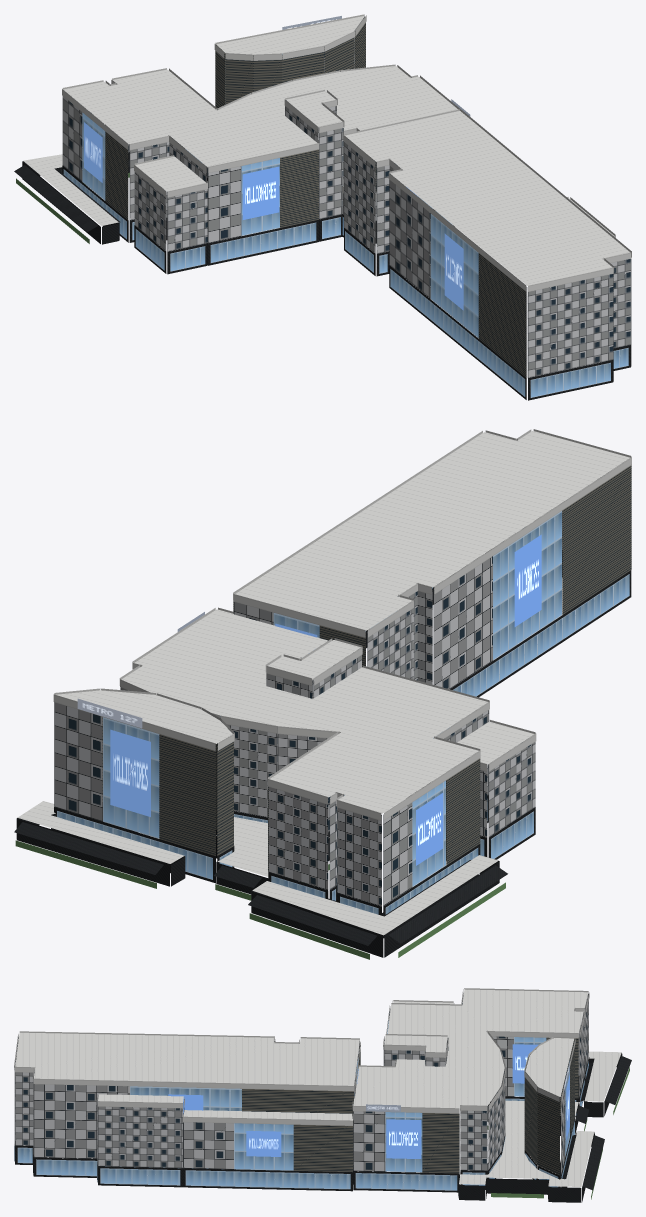
File: metro127.glb
3 renders of one model, top to bottom at view 1: azimuth 30°, elevation 25°; view 2: azimuth 150°, elevation 25°; view 3: azimuth 270°, elevation 25°, orthographic. The views are drawn at different scales.
Parts seen in each view (by area): view 1: Metro127_Sonesta_PBR; view 2: Metro127_Sonesta_PBR; view 3: Metro127_Sonesta_PBR.
Part boxes in pixels (x1,y1,x2,y2): Metro127_Sonesta_PBR: (14,14,631,400); Metro127_Sonesta_PBR: (14,429,631,959); Metro127_Sonesta_PBR: (14,988,631,1202).
Bounding box in the file's own units: 67.5 × 22.19 × 123.
Materials: 9 (8 with a texture image).
